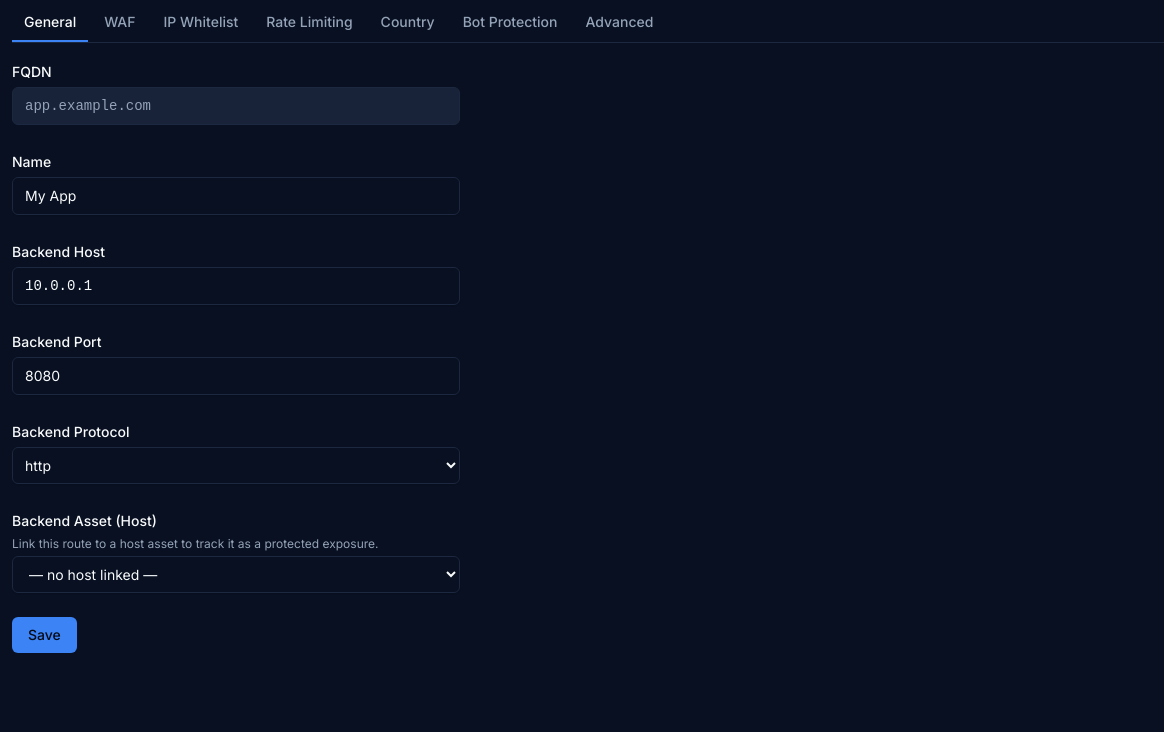
Test: WafTab › renders HTTPS redirect toggle
Expected: the text "app.example.com" is shown, [12,87,460,125]
Click the button with test id "subtab-waf" at {"x": 120, "y": 27}, box [92,12,148,42]
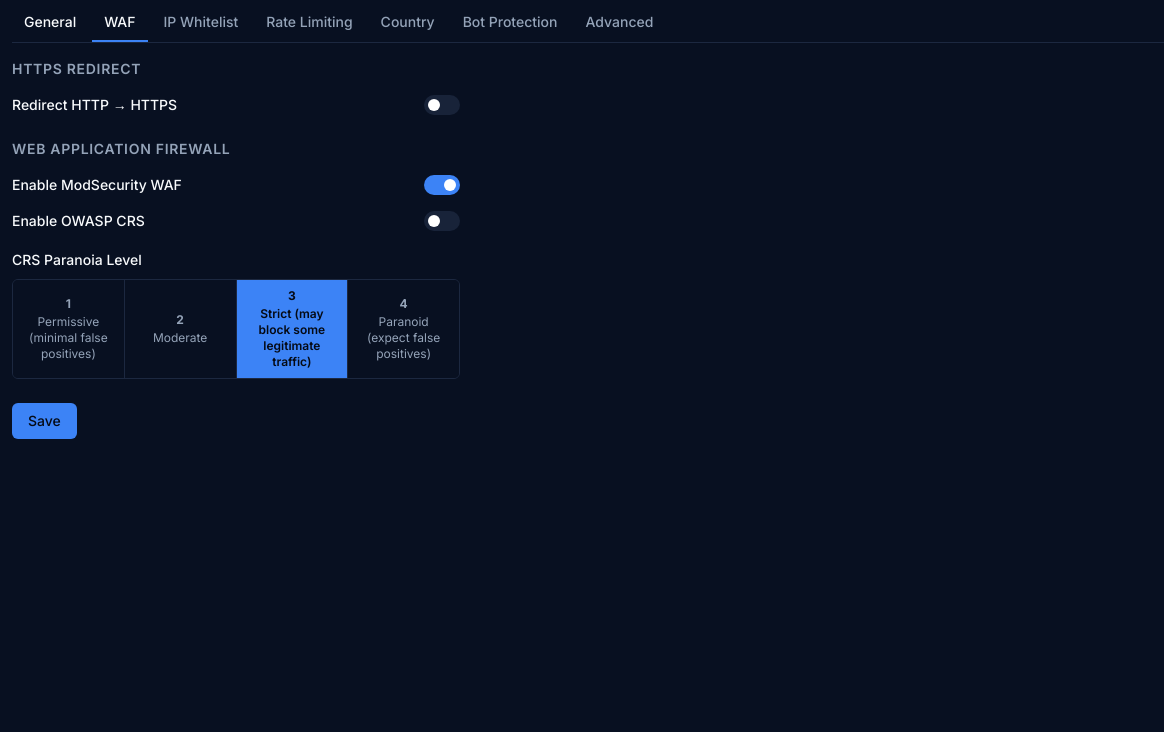
Now the switch with test id "toggle-USE_REDIRECT_HTTP_TO_HTTPS" is shown, box [424,95,460,115]
